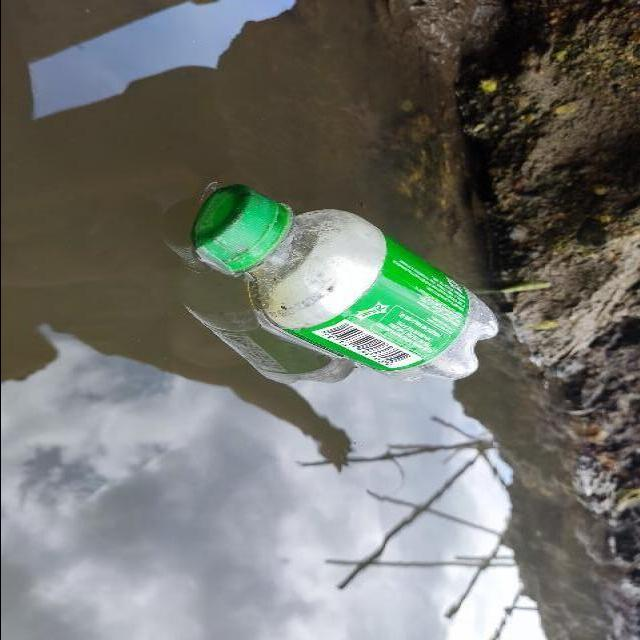Bottle: (174, 169, 503, 401)
